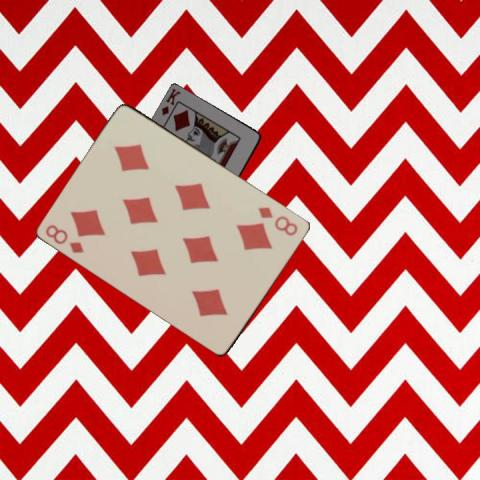8d: (255, 204, 300, 237), (43, 221, 86, 255)
Kd: (159, 85, 182, 124)
